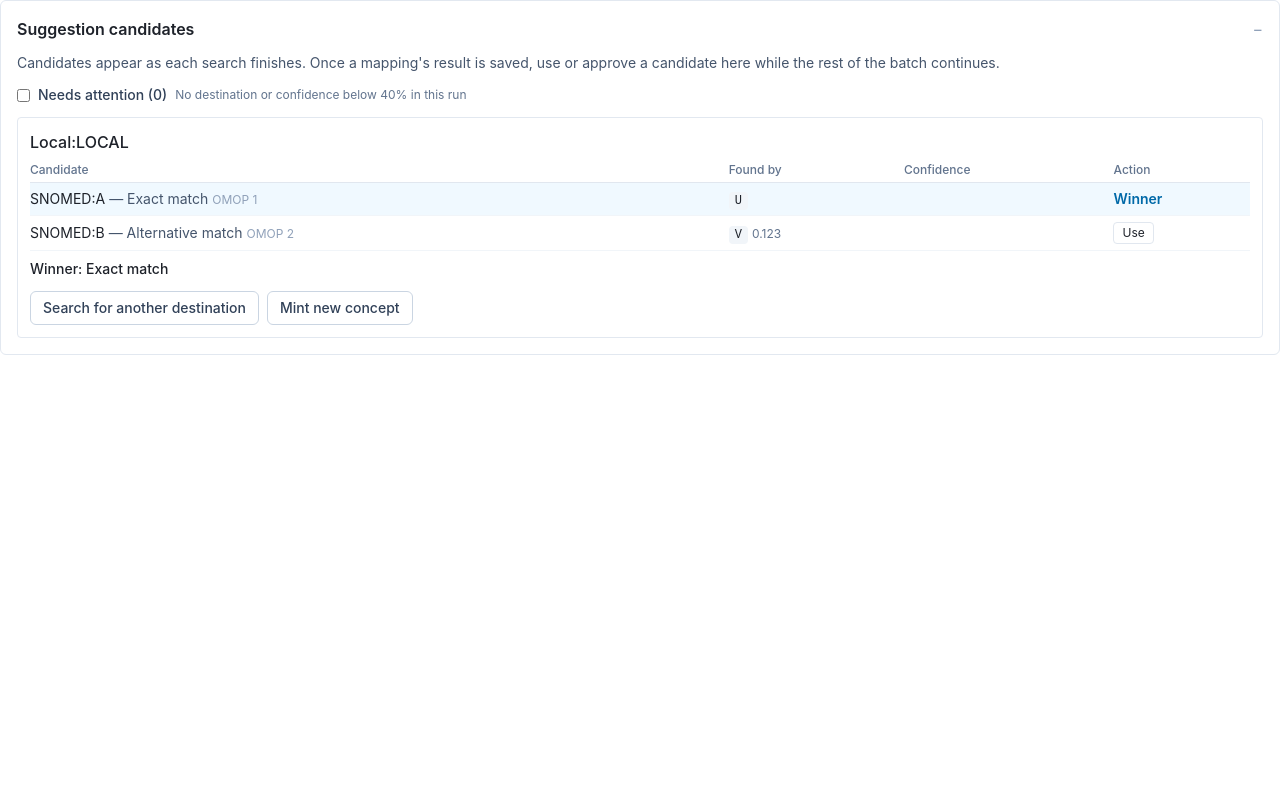
mint new concept from suggest results › pre-fills vocabulary, domain, and concept code from omop_table and source_code
Click the button with aria-label "Mint new concept for LOCAL" at (340, 308), box [267,291,413,325]
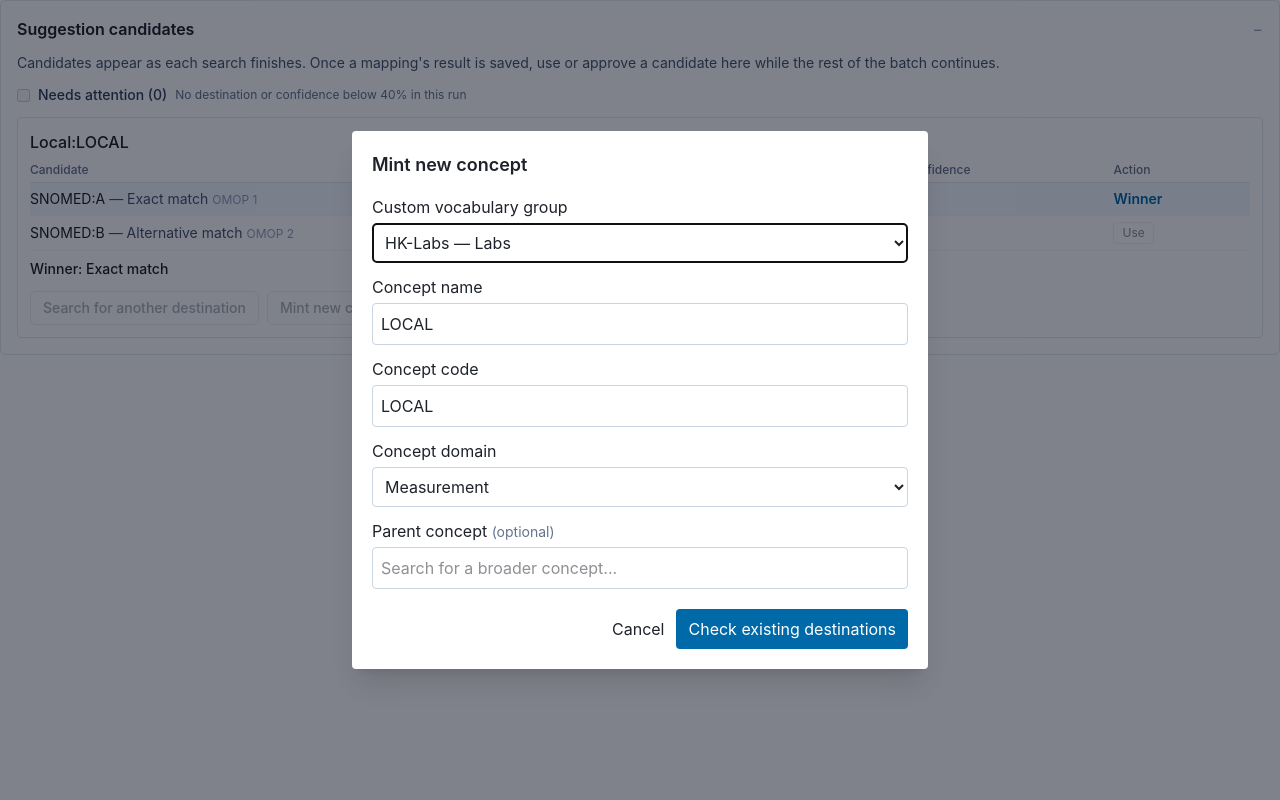
Now the dialog "Mint new concept" is shown, box [352,131,928,669]
Now the dropdown labelled "Custom vocabulary group" shows "HK-Labs — Labs", box [372,223,908,263]
Now the dropdown labelled "Concept domain" shows "Measurement", box [372,467,908,507]
